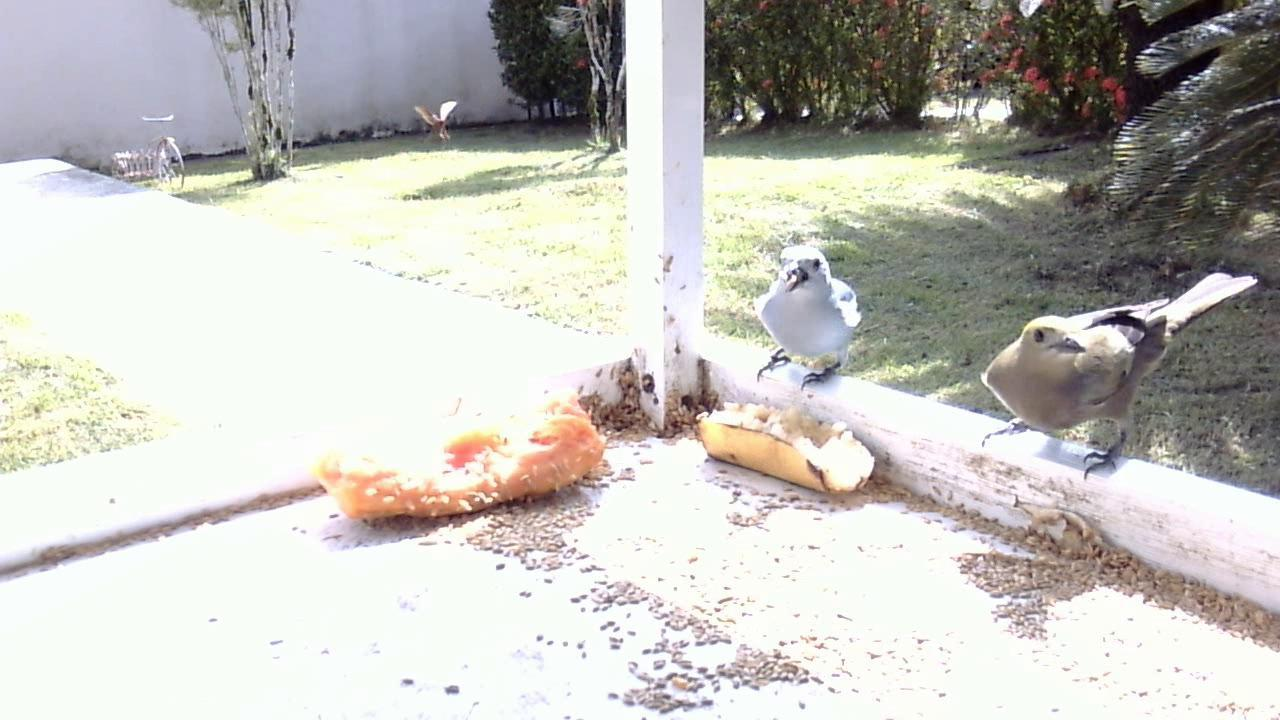sanhaco_da_amazonia: (750, 247, 862, 395)
sanhaco_do_coqueiro: (969, 266, 1261, 493)
